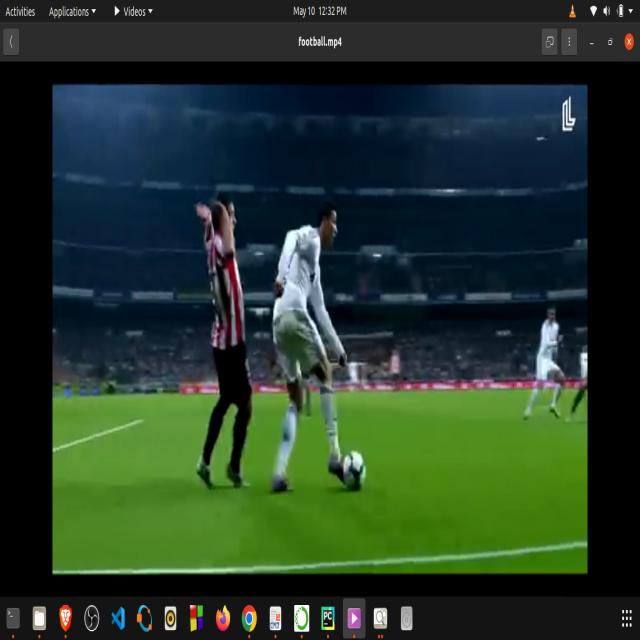Ball: (339, 440, 376, 509)
football-players: (267, 197, 358, 497), (190, 184, 258, 506), (520, 294, 567, 422)
